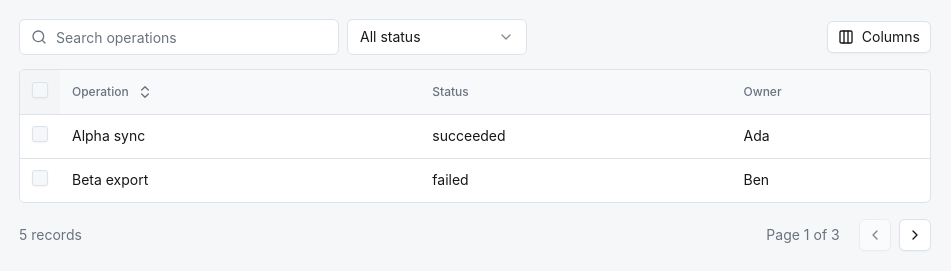
Test: DataTable › sorts, filters, paginates, and writes restorable URL state
expect the text "Page 1 of 3" is shown: met, box [766, 226, 840, 243]
Step 1. Click the button with aria-label "Sort by Operation" → {"x": 113, "y": 92}, box [64, 76, 161, 108]
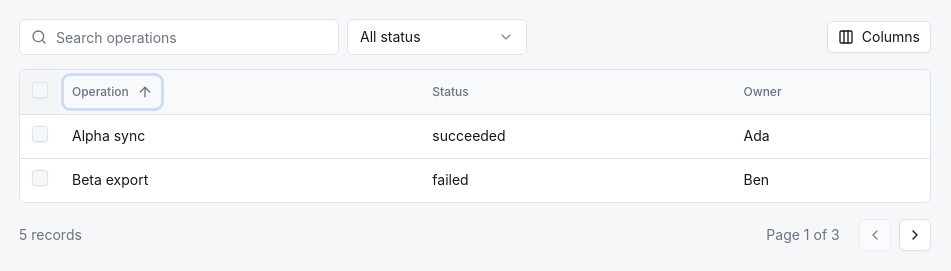
Step 2. Type "report" into the field labelled "Search operations" → {"x": 179, "y": 37}, box [19, 19, 339, 55]
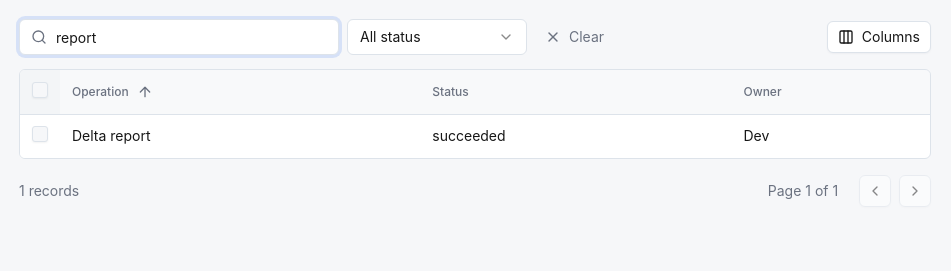
expect the text "Delta report" is shown: met, box [60, 114, 420, 158]
expect the text "1 records" is shown: met, box [19, 181, 79, 201]
Step 3. Click the button "Clear" → {"x": 575, "y": 37}, box [535, 21, 614, 53]
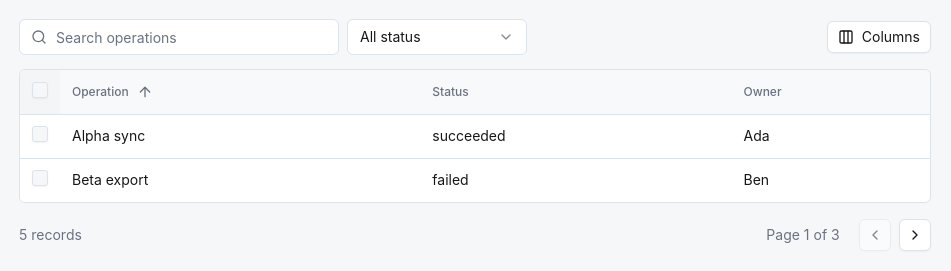
Step 4. Click the button named "Next page" → {"x": 915, "y": 235}, box [899, 219, 931, 251]
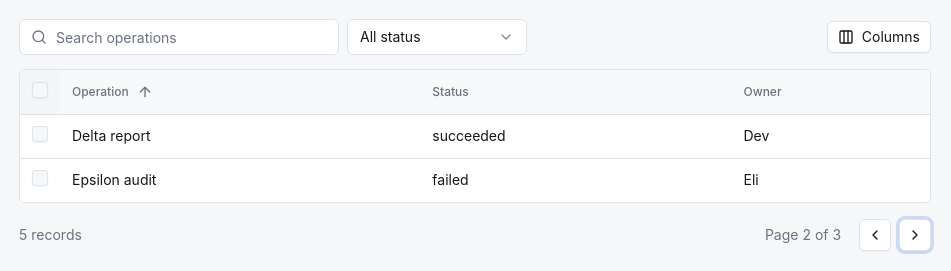
expect the text "Page 2 of 3" is shown: met, box [765, 226, 841, 243]
